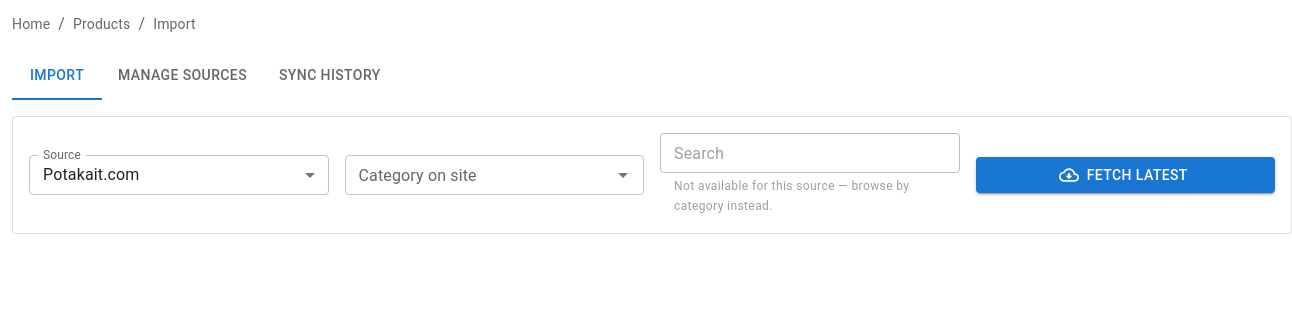
a genuinely empty category shows the plain "no products found" message
Expected: the button "Fetch latest" is enabled, [976,157,1275,193]
Press the mouse on the dropdown labelled "Category on site" at (478, 175), box [350,161,605,189]
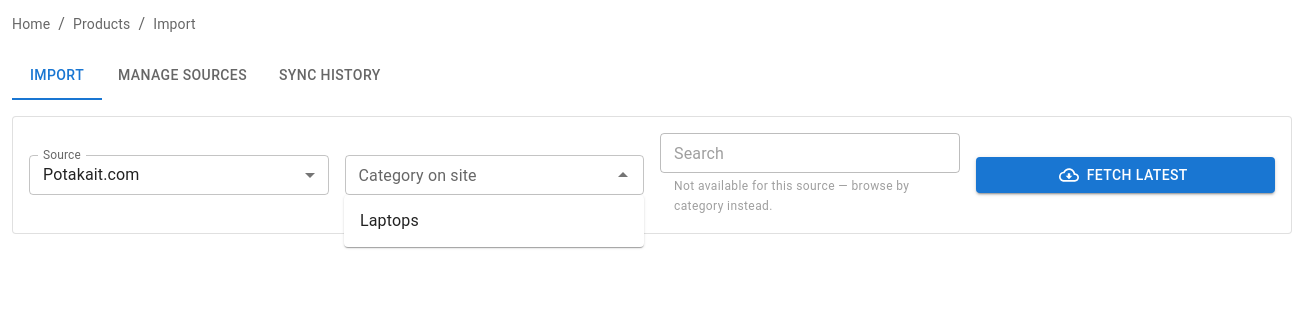
Click the option "Laptops" at (389, 220), box [360,211,419,230]
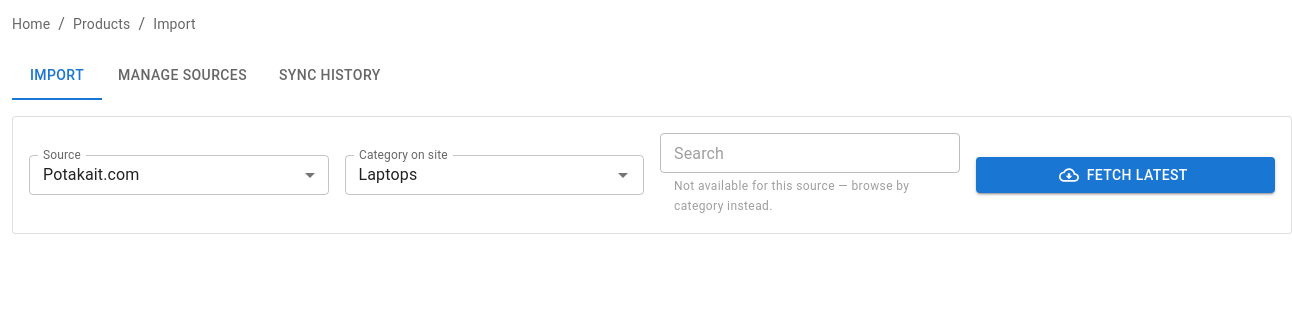
Click the button "Fetch latest" at (1125, 175), box [976,157,1275,193]
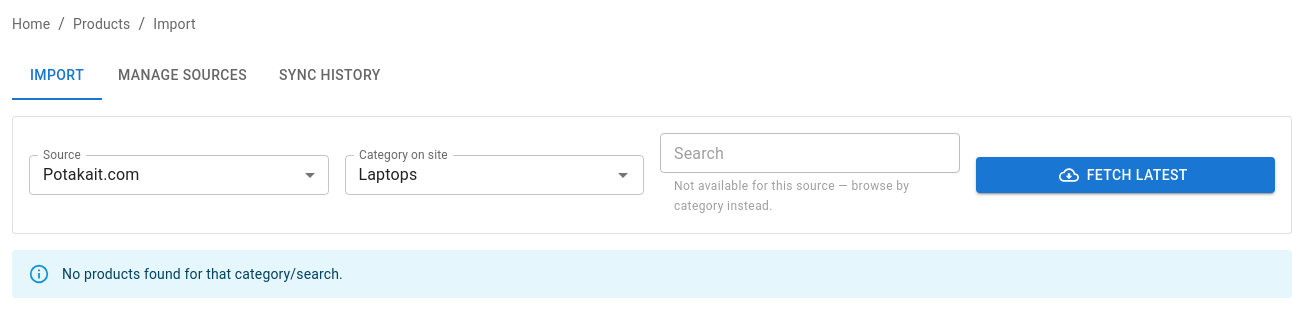
Result: the text "No products found for that category/search." is shown at [62,266,343,282]
